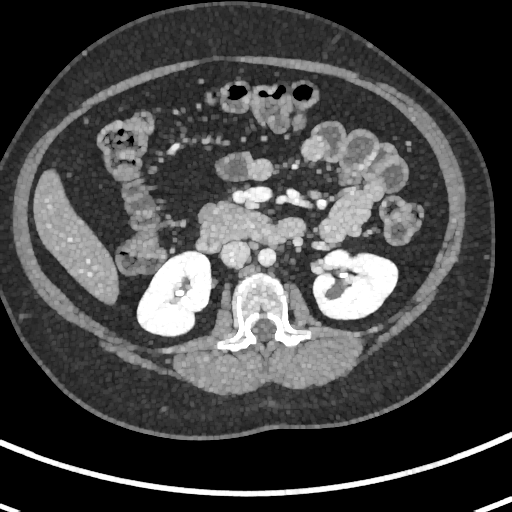Lesion: (323, 277, 347, 305)
